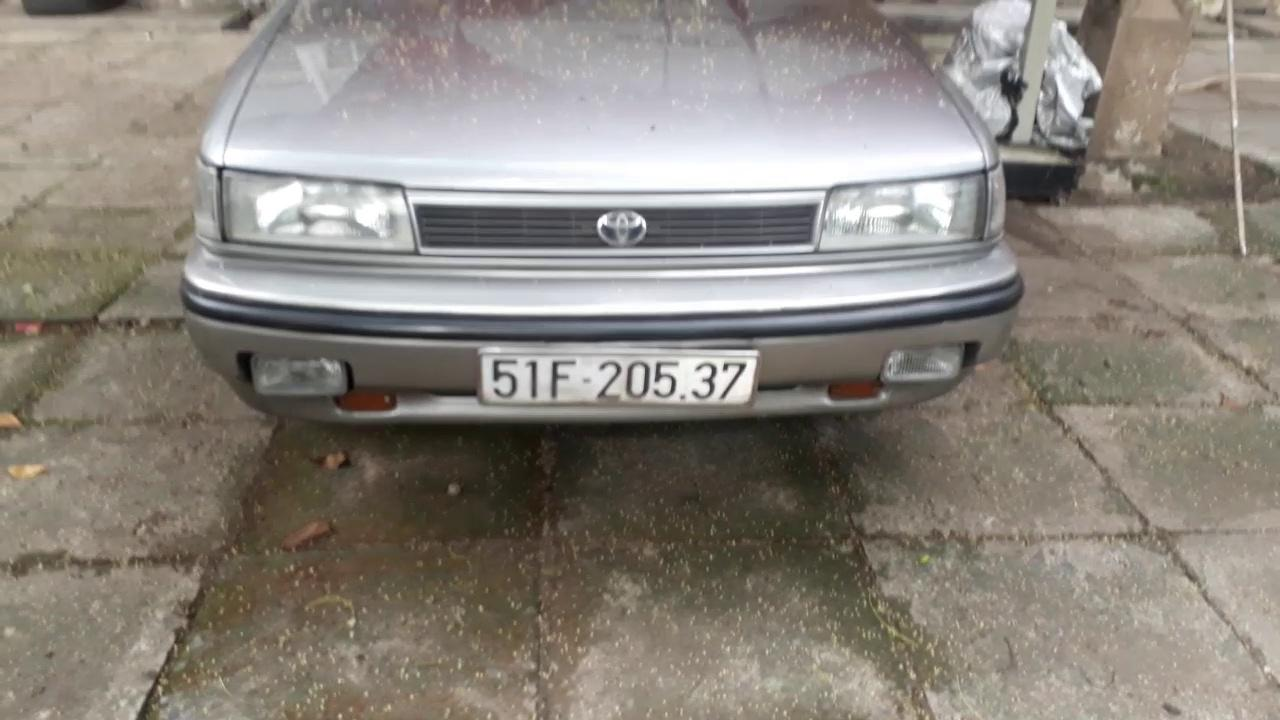numplate: (476, 344, 764, 416)
